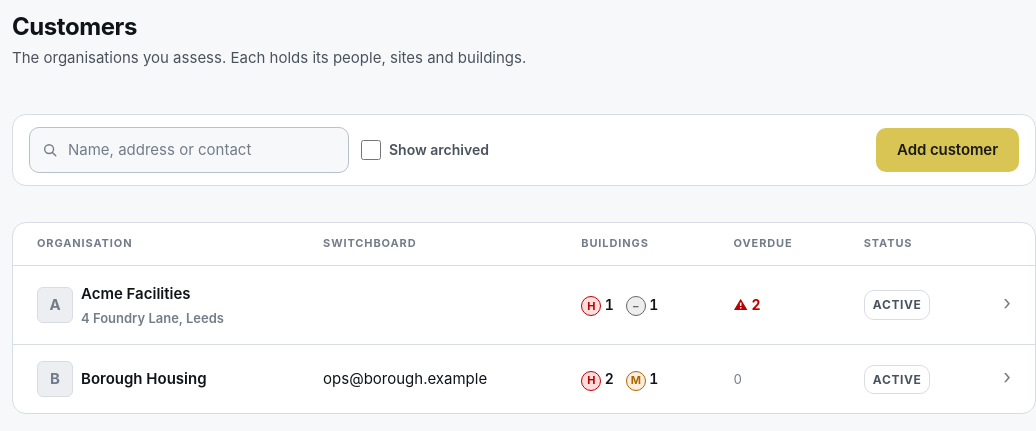
Test: CustomersList › filters rows by the search box
Type "acme" into the search field named "Search customers" at (201, 150), box x1=66 y1=128 x2=336 y2=172
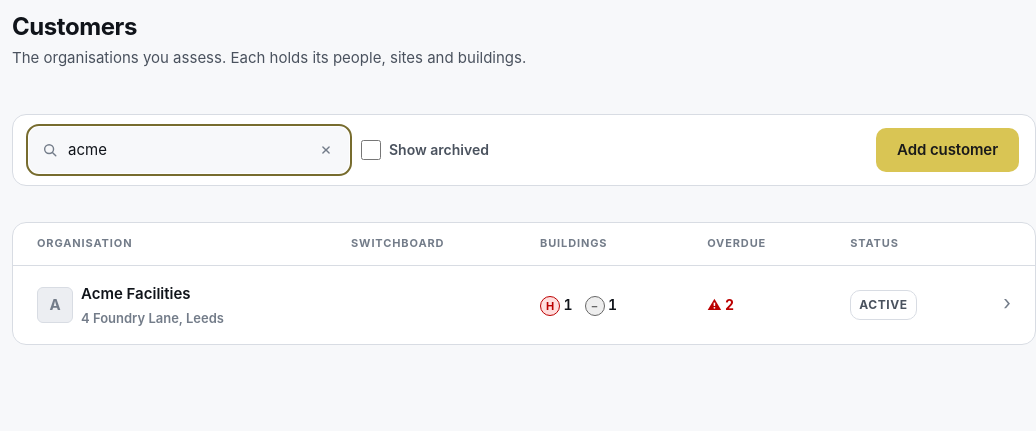
Expected: the text "Acme Facilities" is shown, x1=81 y1=284 x2=191 y2=303
Result: the link "Borough Housing" is gone
